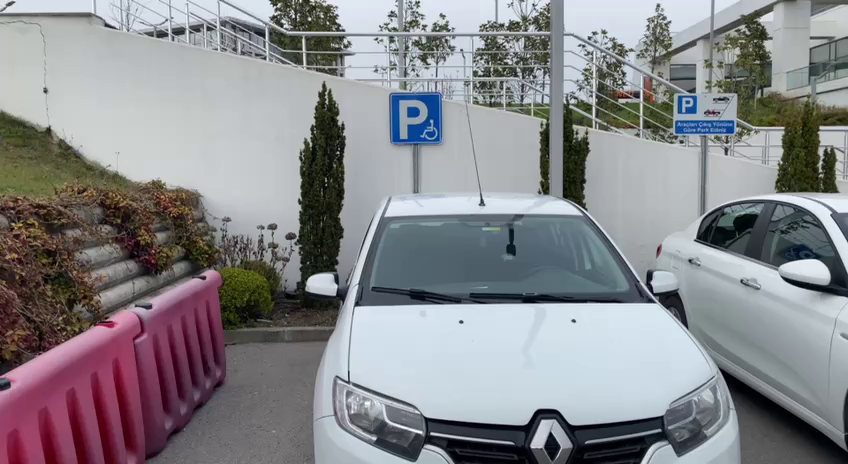parking: (388, 92, 443, 145), (676, 94, 698, 115)
